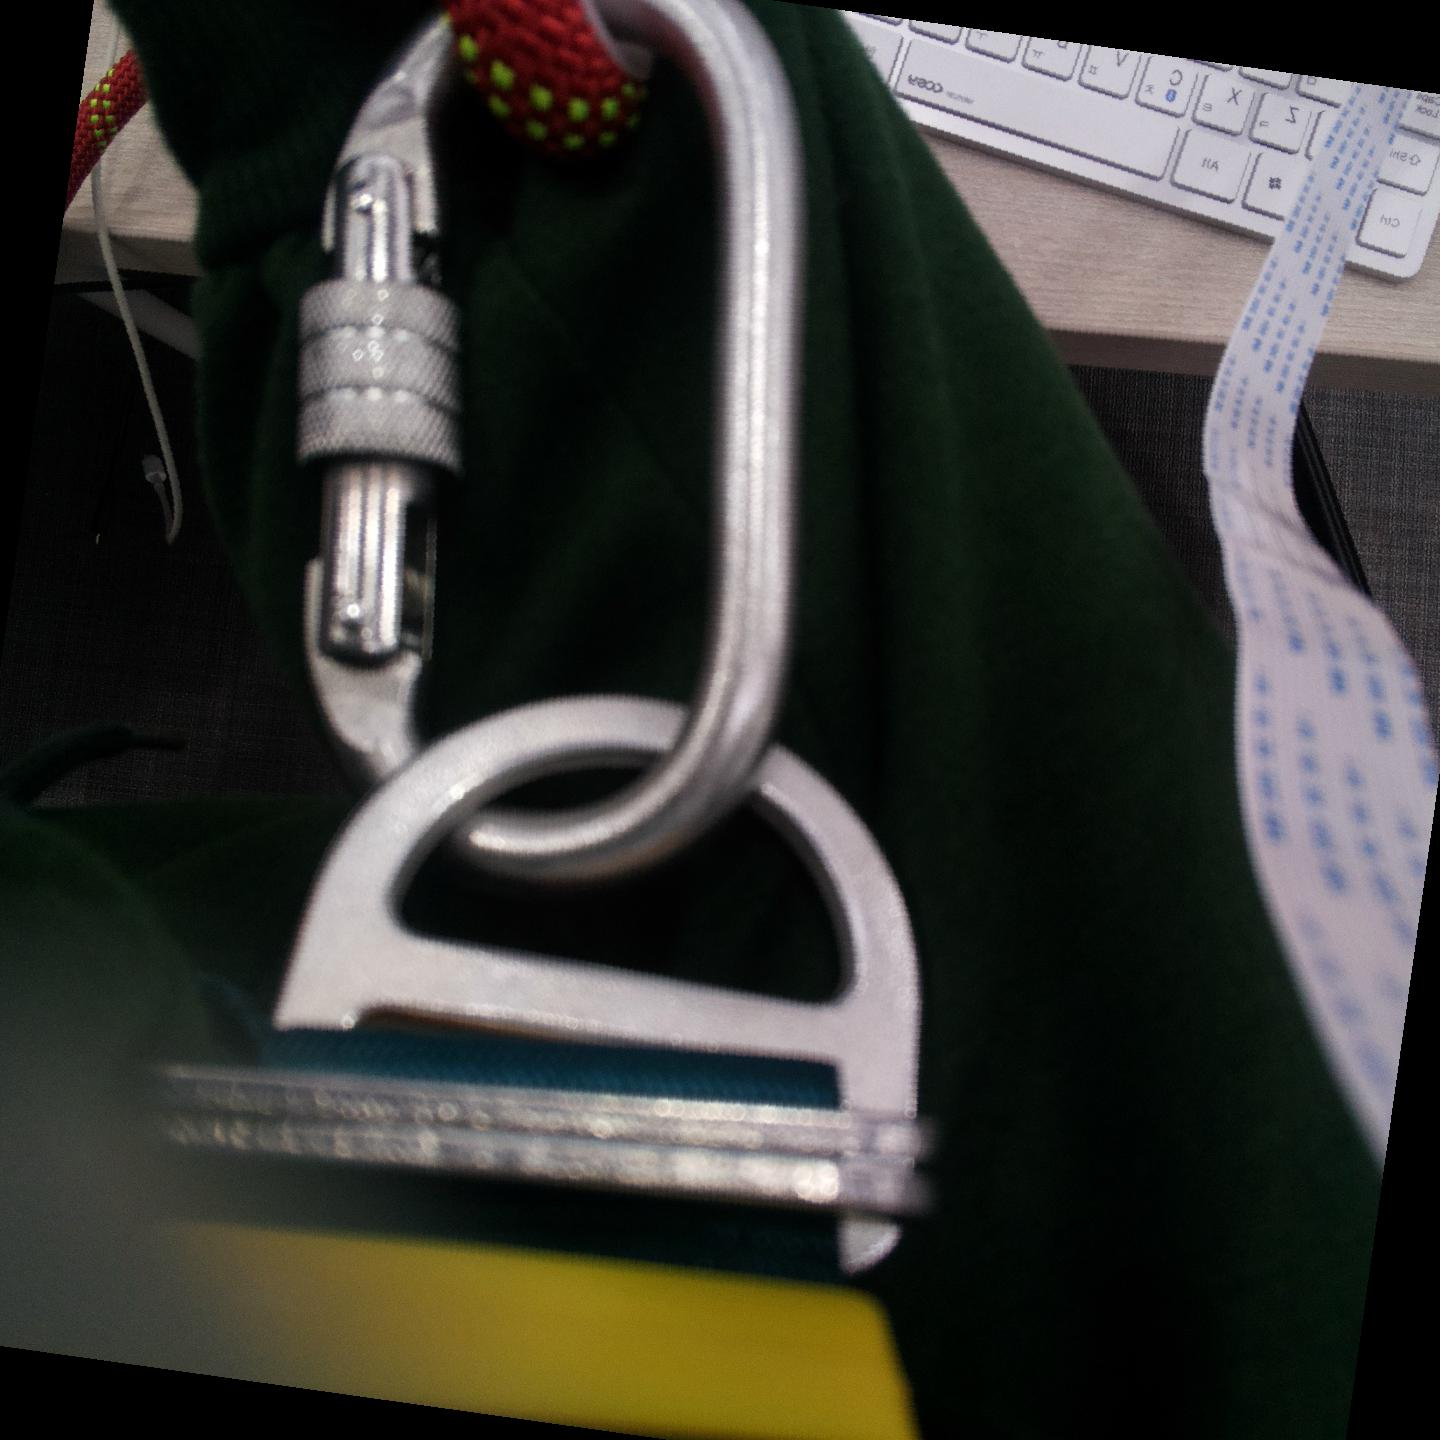SUCCESS: (295, 138, 798, 671)
